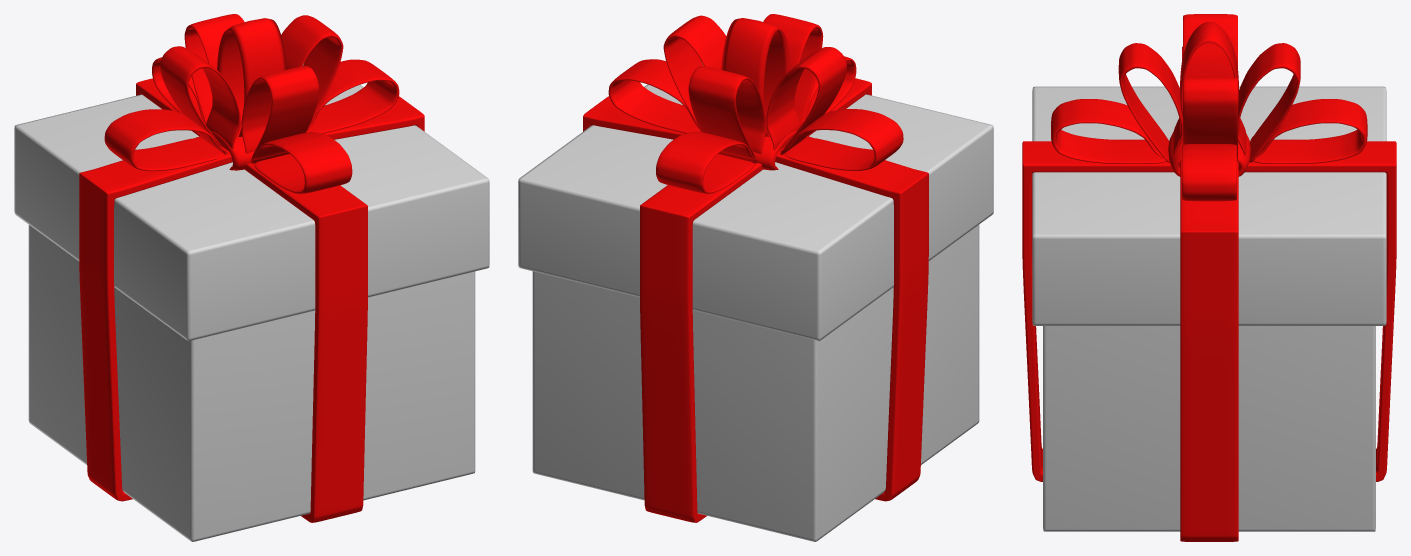
File: a_gift_box.glb
3 views of the same model, side by side, from view 1: azimuth 30°, elevation 25°; view 2: azimuth 150°, elevation 25°; view 3: azimuth 270°, elevation 25° (orthographic).
Parts seen in each view (by area): view 1: Cube, Cube.001, Cube.003, Cube.004, Cube.013, Cube.008, Cube.006, Cube.007, Cube.012, Cylinder, Cube.011, Cube.010 (+4 smaller); view 2: Cube, Cube.001, Cube.002, Cube.004, Cube.010, Cube.008, Cube.009, Cube.012, Cylinder, Cube.007, Cube.011, Cube.013 (+4 smaller); view 3: Cube, Cube.001, Cube.005, Cube.002, Cube.003, Cube.009, Cube.006, Cube.011, Cube.013, Cube.010, Cube.007, Cube.012 (+2 smaller).
Boxes of the visible parts, x1,y1,x2,y2 form: Cube: (28, 225, 475, 541); Cube.001: (14, 64, 489, 340); Cube.003: (244, 163, 367, 522); Cube.004: (79, 136, 232, 501); Cube.013: (241, 66, 318, 163); Cube.008: (104, 109, 227, 171); Cube.006: (251, 132, 352, 193); Cube.007: (306, 59, 399, 133); Cube.012: (160, 46, 240, 154); Cylinder: (217, 18, 286, 136); Cube.011: (281, 15, 343, 123); Cube.010: (184, 14, 244, 124); Cube: (532, 225, 979, 541); Cube.001: (518, 63, 993, 340); Cube.002: (640, 163, 763, 522); Cube.004: (775, 136, 928, 501); Cube.010: (688, 66, 765, 163); Cube.008: (780, 109, 903, 170); Cube.009: (656, 131, 757, 193); Cube.012: (766, 47, 846, 154); Cylinder: (721, 18, 790, 136); Cube.007: (608, 59, 701, 133); Cube.011: (663, 15, 726, 130); Cube.013: (763, 14, 823, 125); Cube: (1043, 326, 1375, 531); Cube.001: (1032, 86, 1386, 325); Cube.005: (1180, 161, 1238, 541); Cube.002: (1245, 141, 1396, 481); Cube.003: (1022, 141, 1173, 481); Cube.009: (1250, 99, 1367, 163); Cube.006: (1051, 99, 1165, 163); Cube.011: (1183, 77, 1237, 160); Cube.013: (1118, 43, 1182, 162); Cube.010: (1238, 43, 1300, 162); Cube.007: (1182, 144, 1236, 201); Cube.012: (1183, 14, 1237, 77).
Size of the model in its own units: 225 by 293 by 225.
